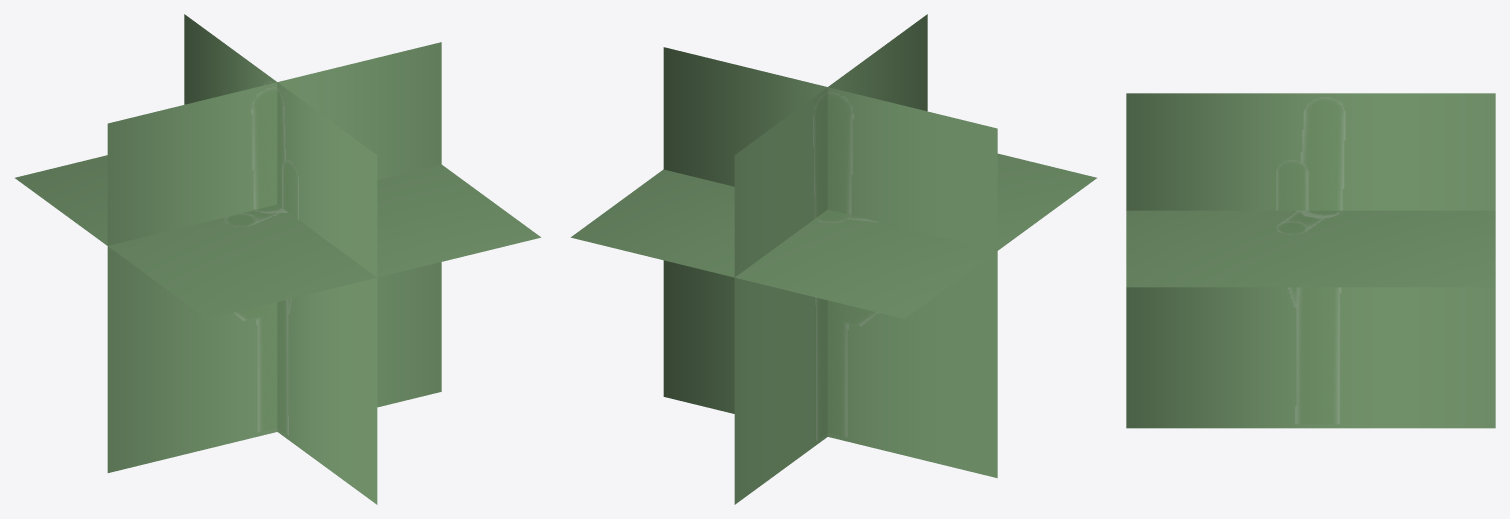
The model's file is saguaro_2_far.glb.
3 renders of one model, left to right at view 1: azimuth 30°, elevation 25°; view 2: azimuth 150°, elevation 25°; view 3: azimuth 270°, elevation 25°, orthographic. The views are drawn at different scales.
Visible parts, largest first — view 1: saguaro_2_far; view 2: saguaro_2_far; view 3: saguaro_2_far.
Boxes of the visible parts, bbox=[...] form: saguaro_2_far: bbox=[15, 14, 540, 504]; saguaro_2_far: bbox=[571, 14, 1096, 504]; saguaro_2_far: bbox=[1126, 93, 1495, 428].
Size of the model in its own units: 5.11 by 5.11 by 5.11.
Materials: 1 (1 with a texture image).
